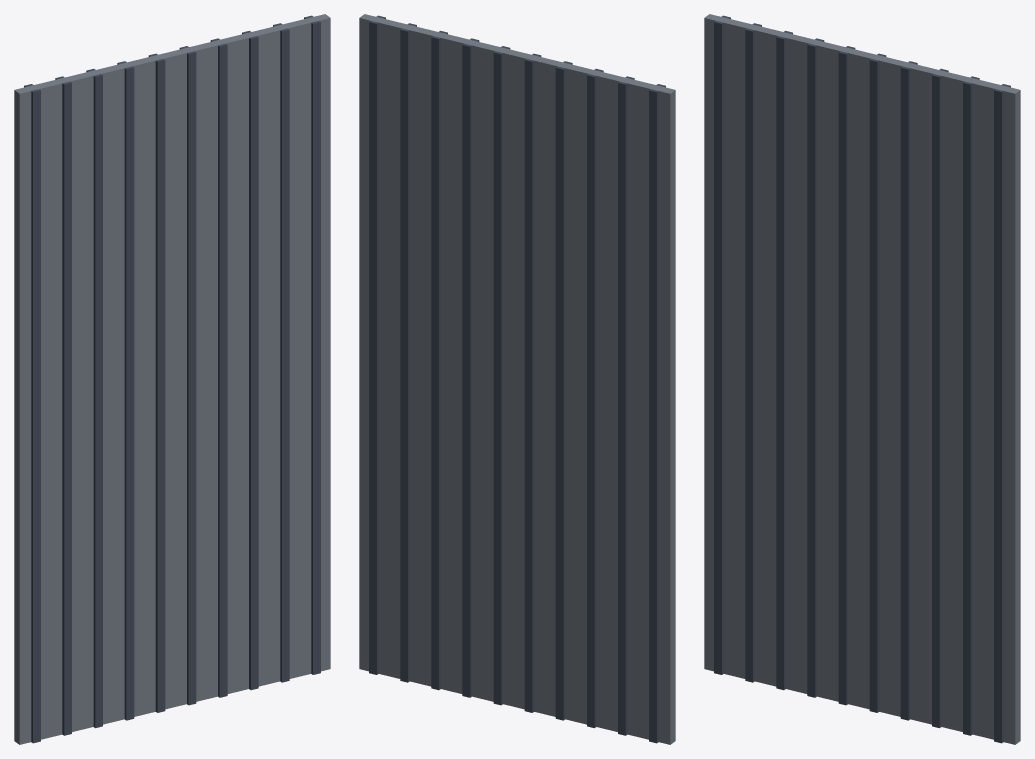
File: wall_corrugated_metal_4m.glb
3 views of the same model, side by side, from view 1: azimuth 30°, elevation 25°; view 2: azimuth 150°, elevation 25°; view 3: azimuth 330°, elevation 25° (orthographic).
Visible parts, largest first — view 1: wall_corrugated_metal_4m; view 2: wall_corrugated_metal_4m; view 3: wall_corrugated_metal_4m.
Boxes of the visible parts, x1,y1,x2,y2 form: wall_corrugated_metal_4m: (14, 14, 330, 744); wall_corrugated_metal_4m: (359, 14, 675, 744); wall_corrugated_metal_4m: (704, 14, 1020, 744).
Size of the model in its own units: 2 by 4 by 0.1.
